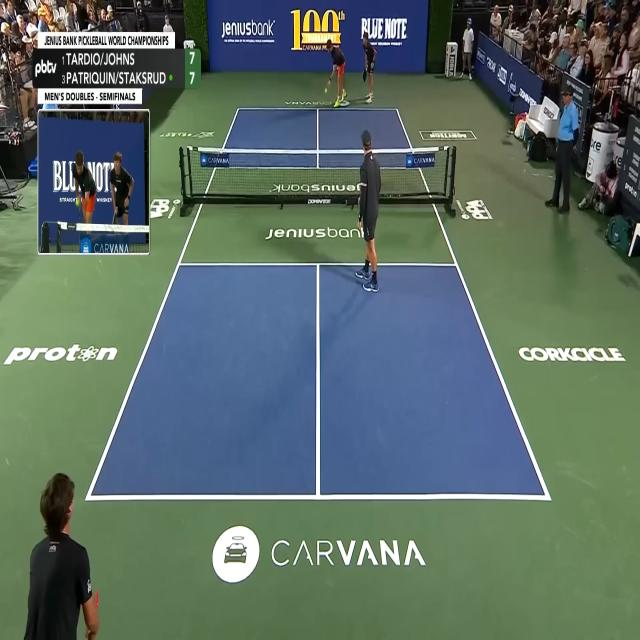ball: (324, 86, 328, 94)
